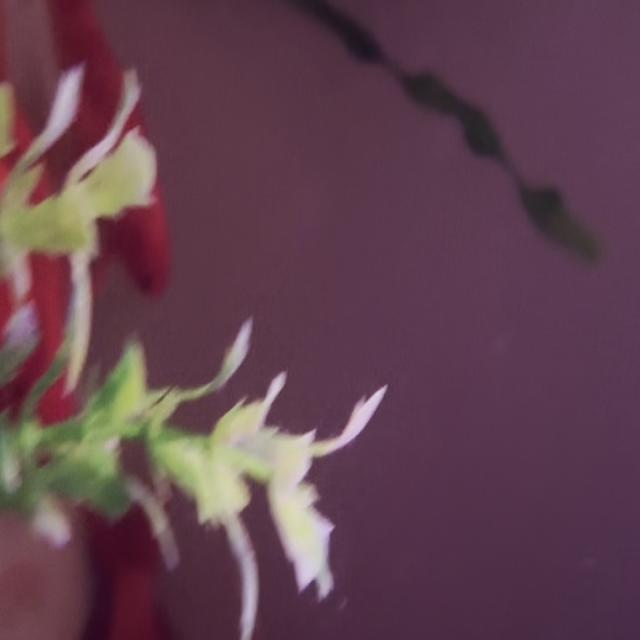fish: (22, 0, 169, 292)
